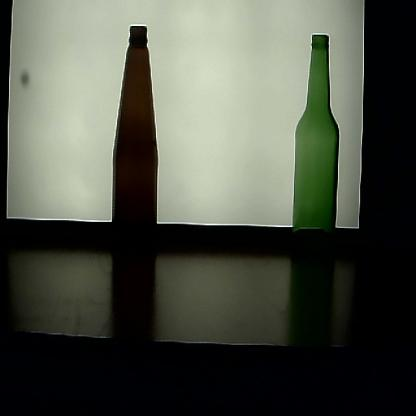Can: (110, 22, 164, 263), (292, 31, 344, 254)
